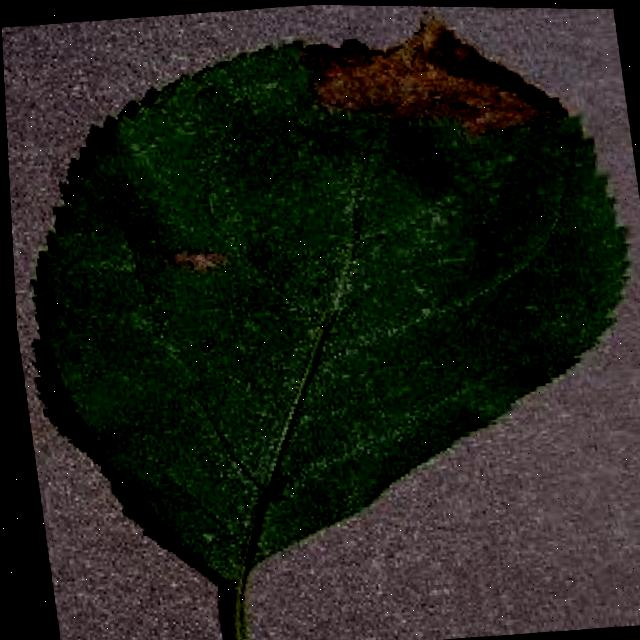black_rot: (273, 4, 586, 159), (146, 225, 250, 288)
